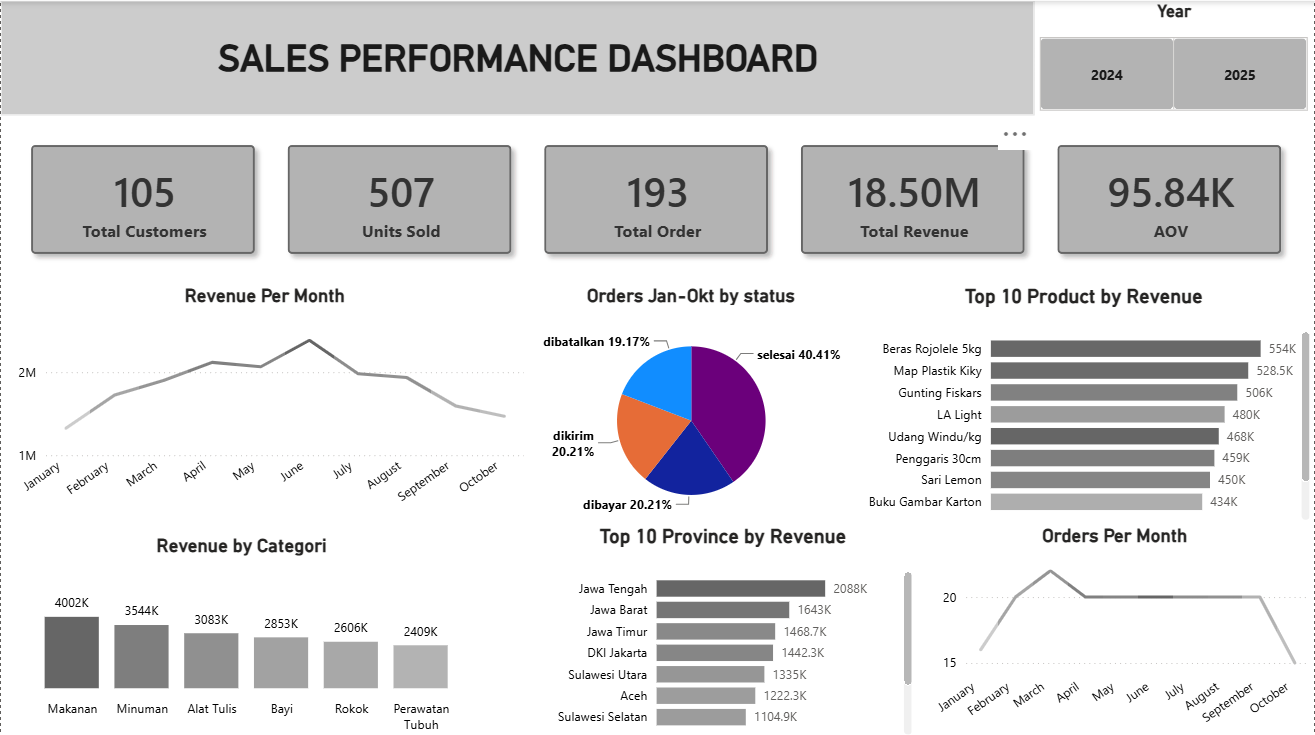

The dashboard page shown, as its layout file describes it:
{"tool":"powerbi","page":{"name":"Page 1","canvas":[1280,720],"ordinal":0},"visuals":[{"type":"cardVisual","fields":{"Data":["sales_analysis.Customers Jan-Okt","sales_analysis.Units Jan-Okt","sales_analysis.Orders Jan-Okt","sales_analysis.Revenue Jan-Okt","sales_analysis.AOV Jan-Okt"]},"box":[0,111.5,1279.4,164.4],"z":0},{"type":"shape","box":[0,0,1007.3,111.5],"z":1000},{"type":"lineChart","title":"Revenue Per Month","fields":{"Category":["sales_analysis.tanggal.Variation.Date Hierarchy.Month"],"Y":["sales_analysis.Revenue Jan-Okt"]},"box":[0,275.9,514,234.3],"z":2000},{"type":"pieChart","fields":{"Category":["sales_analysis.status"],"Y":["sales_analysis.Orders Jan-Okt"]},"box":[514,275.9,315.6,234.3],"z":3000},{"type":"clusteredBarChart","title":"Top 10 Product by Revenue","fields":{"Category":["sales_analysis.nama_produk"],"Y":["sales_analysis.Revenue Jan-Okt"]},"box":[829.6,275.9,449.8,234.3],"z":4000},{"type":"columnChart","title":"Revenue by Categori","fields":{"Category":["sales_analysis.kategori"],"Y":["sales_analysis.Revenue Jan-Okt"]},"box":[0,519.7,468.7,200.3],"z":5000},{"type":"lineChart","title":"Orders Per Month","fields":{"Category":["sales_analysis.tanggal.Variation.Date Hierarchy.Month"],"Y":["sales_analysis.Orders Jan-Okt"]},"box":[892,510.2,387.4,209.8],"z":6000},{"type":"clusteredBarChart","title":"Top 10 Province by Revenue","fields":{"Y":["sales_analysis.Revenue Jan-Okt"],"Category":["sales_analysis.provinsi"]},"box":[514,510.2,378,209.8],"z":7000},{"type":"advancedSlicerVisual","fields":{"Values":["sales_analysis.tanggal.Variation.Date Hierarchy.Year"]},"box":[1007.3,0,272.1,111.5],"z":8000}]}

Visuals, with their boxes in screenshot pixels (x1, y1, x2, y2), scaled from the page's 1280x720 canvas onto the 1315x735 screenshot:
cardVisual - sales_analysis.Customers Jan-Okt x sales_analysis.Units Jan-Okt: 0, 114, 1314, 282
shape: 0, 0, 1035, 114
"Revenue Per Month" lineChart: 0, 282, 528, 521
pieChart - sales_analysis.status x sales_analysis.Orders Jan-Okt: 528, 282, 852, 521
"Top 10 Product by Revenue" clusteredBarChart: 852, 282, 1314, 521
"Revenue by Categori" columnChart: 0, 531, 482, 734
"Orders Per Month" lineChart: 916, 521, 1314, 734
"Top 10 Province by Revenue" clusteredBarChart: 528, 521, 916, 734
advancedSlicerVisual - sales_analysis.tanggal.Variation.Date Hierarchy.Year: 1035, 0, 1314, 114
